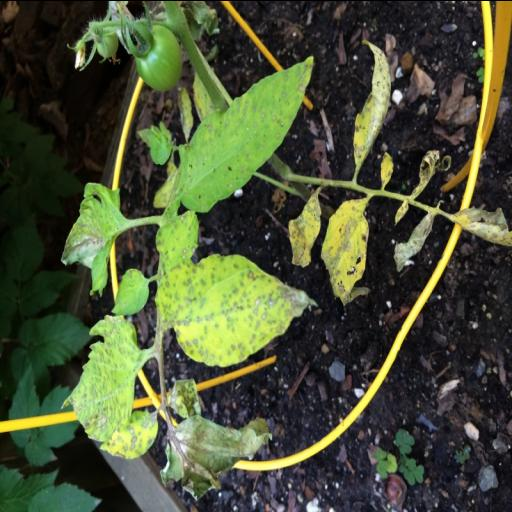Septoria: (170, 54, 316, 212), (154, 252, 318, 368), (59, 312, 145, 442), (59, 177, 129, 299), (320, 198, 372, 310), (352, 37, 392, 167), (99, 408, 159, 458), (154, 212, 200, 268), (110, 268, 150, 316), (169, 375, 203, 417)
